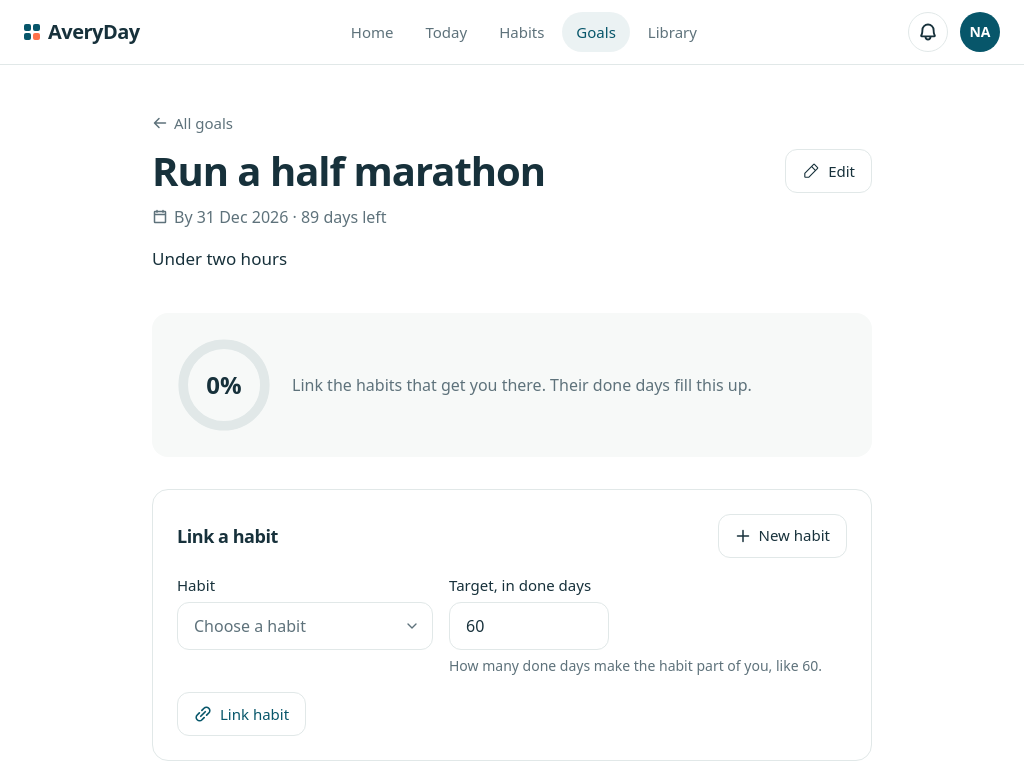
goal detail › warns that linking a habit from another goal moves it
Click the dropdown labelled "habit" at (305, 626), box x1=177 y1=602 x2=433 y2=650
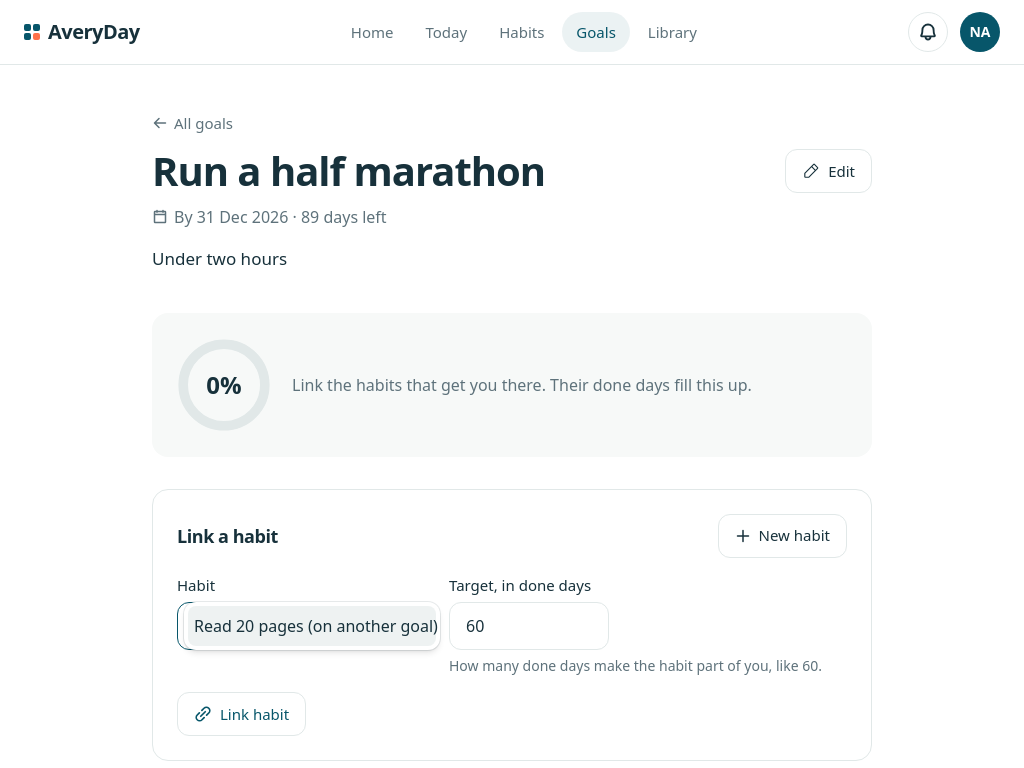
Click the option "Read 20 pages (on another goal)" at (312, 626), box x1=188 y1=606 x2=436 y2=646
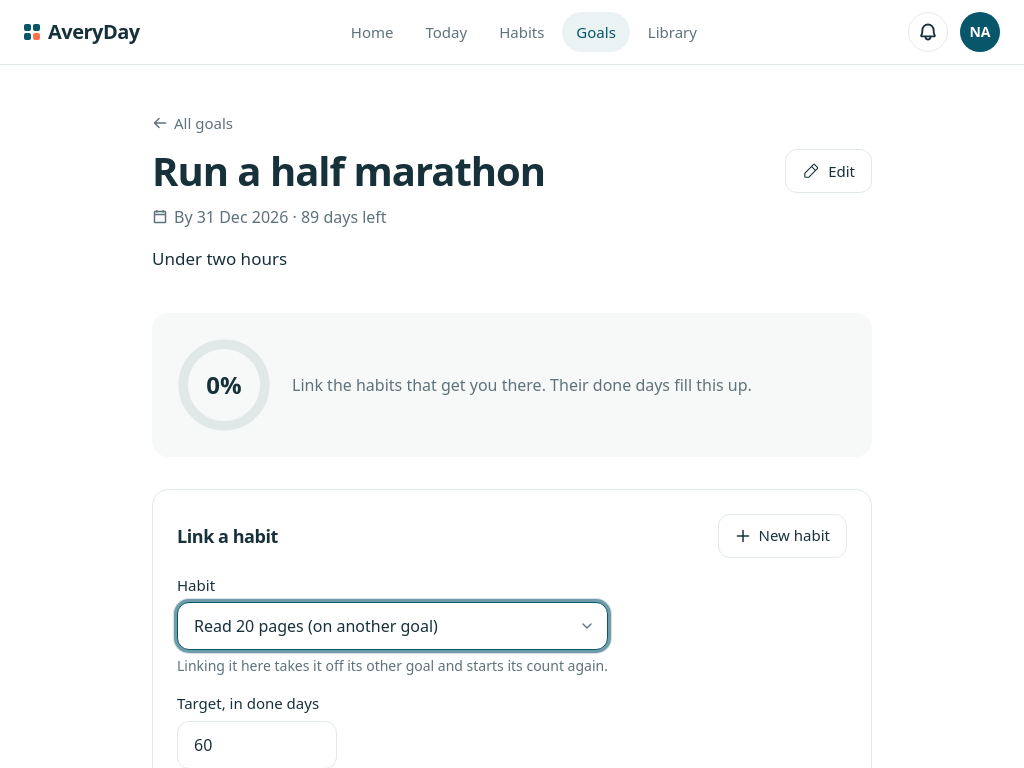
expect the text "takes it off its other goal" is shown: met, box x1=177 y1=656 x2=608 y2=675
